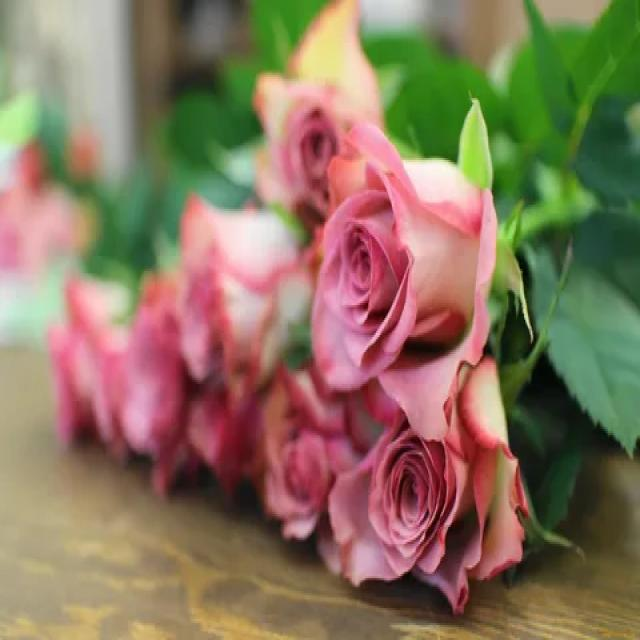rose: (297, 101, 527, 445)
